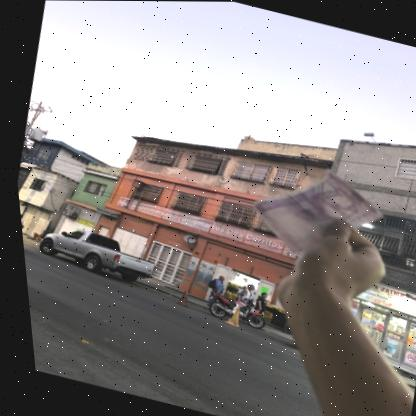one_hundred-back-vef: (233, 151, 393, 275)
